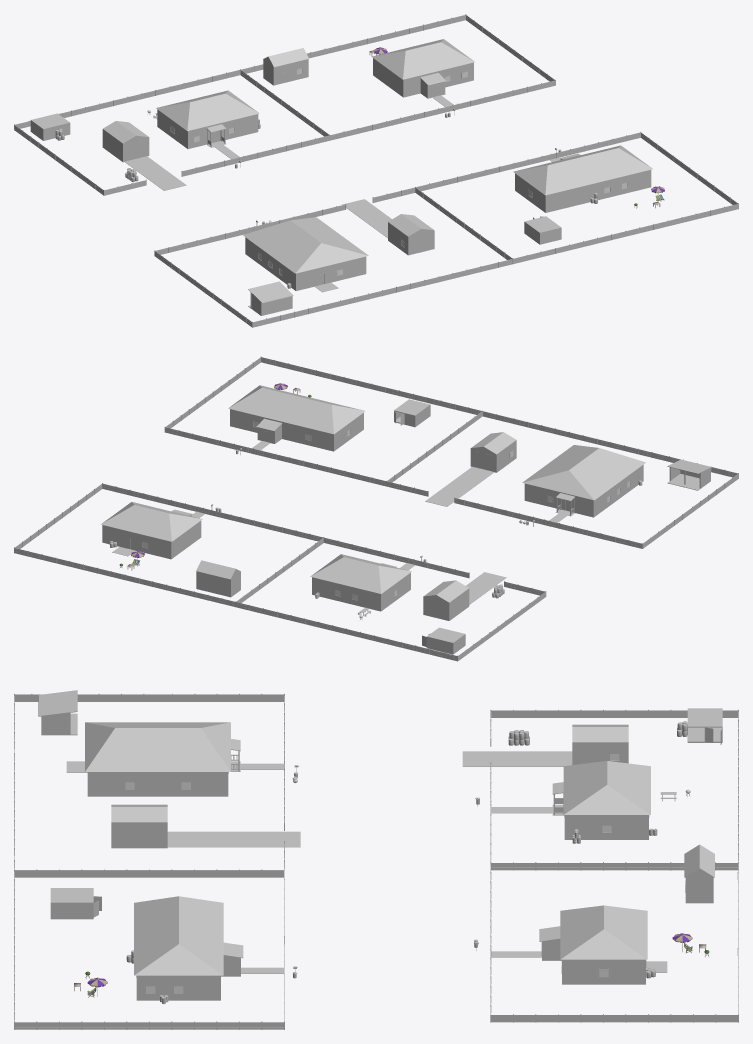
The model's file is HauseHutor08.fbx.
3 renders of one model, top to bottom at view 1: azimuth 30°, elevation 25°; view 2: azimuth 150°, elevation 25°; view 3: azimuth 270°, elevation 25°, orthographic. The views are drawn at different scales.
Visible parts, largest first — view 1: Roof.031, Zabor.156, Zabor.012, Roof.104, Zabor.133, Zabor.023, HauseF.003, RoofHause.028, RoofHause.019, HauseD.001, HauseJ.017, Garaje.006 (+8 smaller); view 2: Roof.031, Zabor.156, Zabor.133, Roof.104, Zabor.012, Zabor.023, RoofHause.019, RoofHause.028, HauseF.003, HauseD.001, HauseJ.017, HauseJ.028 (+8 smaller); view 3: Roof.031, Roof.104, Zabor.156, RoofHause.028, RoofHause.019, Zabor.133, HauseD.001, Garaje.006, Zabor.023, Cube.037, Zabor.012, Garaje.054 (+9 smaller).
Part boxes in pixels (x1,y1,x2,y2): Roof.031: (243,217,368,273); Zabor.156: (415,131,738,264); Zabor.012: (154,187,512,327); Roof.104: (513,145,652,195); Zabor.133: (14,69,330,195); Zabor.023: (241,14,555,140); HauseF.003: (515,170,651,212); RoofHause.028: (372,39,474,79); RoofHause.019: (156,90,259,130); HauseD.001: (245,237,366,290); HauseJ.017: (157,109,258,148); Garaje.006: (388,214,434,254); Roof.031: (522,445,645,500); Zabor.156: (164,356,482,486); Zabor.133: (235,537,546,661); Roof.104: (228,385,365,434); Zabor.012: (387,411,738,548); Zabor.023: (14,483,323,606); RoofHause.019: (310,554,411,593); RoofHause.028: (101,502,202,541); HauseF.003: (230,409,363,451); HauseD.001: (524,464,643,517); HauseJ.017: (312,572,410,611); HauseJ.028: (102,520,201,558); Roof.031: (85,722,230,771); Roof.104: (134,896,223,975); Zabor.156: (14,869,284,1029); RoofHause.028: (560,905,647,959); RoofHause.019: (563,761,650,814); Zabor.133: (490,709,738,870); HauseD.001: (87,772,228,796); Garaje.006: (111,804,167,847); Zabor.023: (490,863,738,1022); Cube.037: (167,831,300,847); Zabor.012: (14,693,284,869); Garaje.054: (572,724,628,764).
Size of the model in its own units: 11058 by 721 by 10322.
